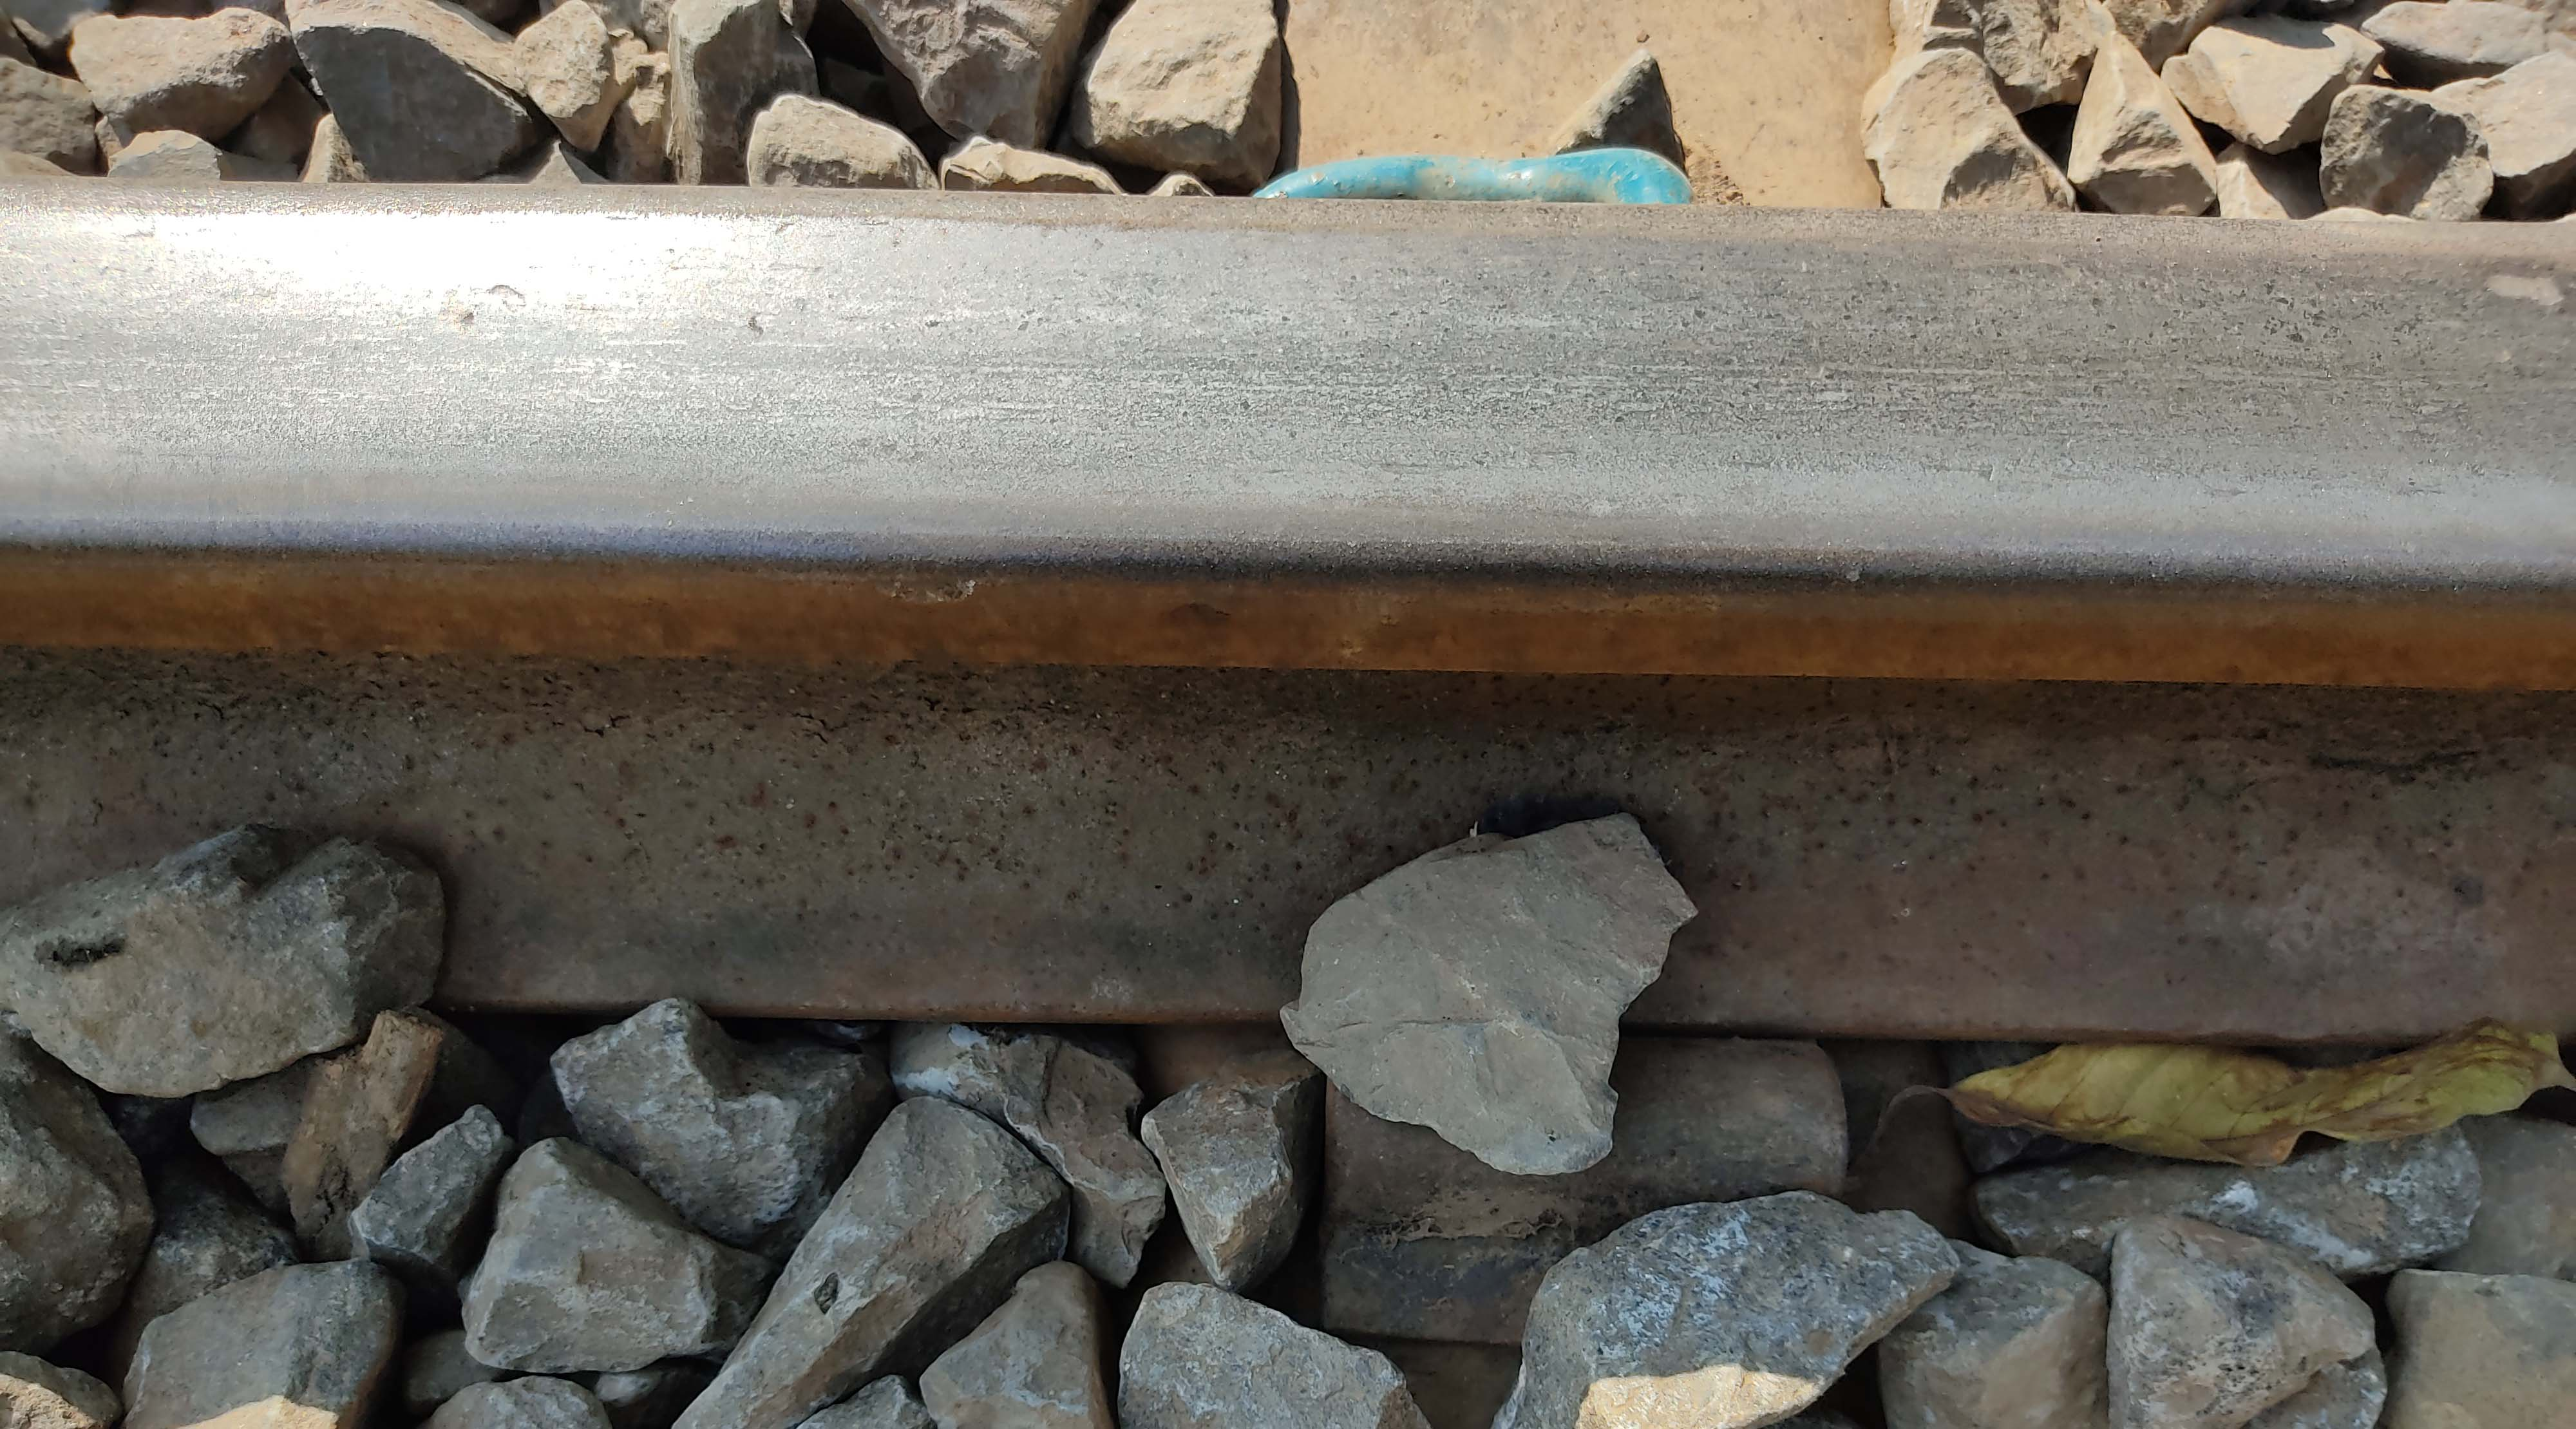error1: (1288, 956, 1895, 1394), (1189, 104, 1733, 243)
